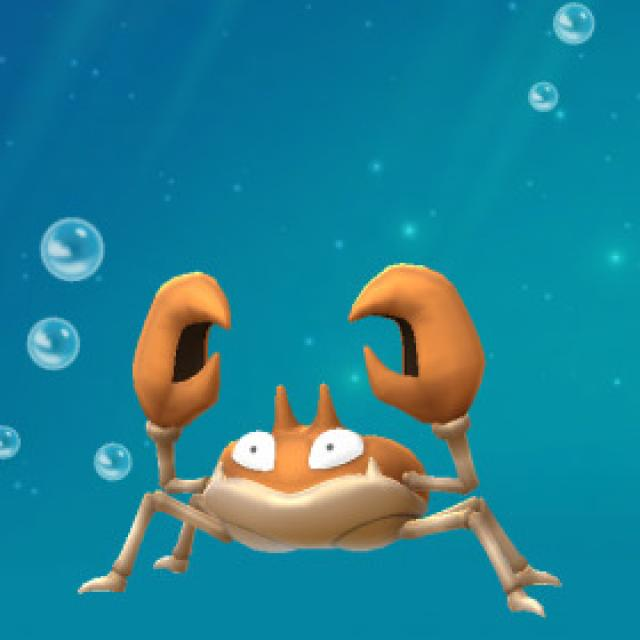Krabby: (75, 262, 537, 595)
